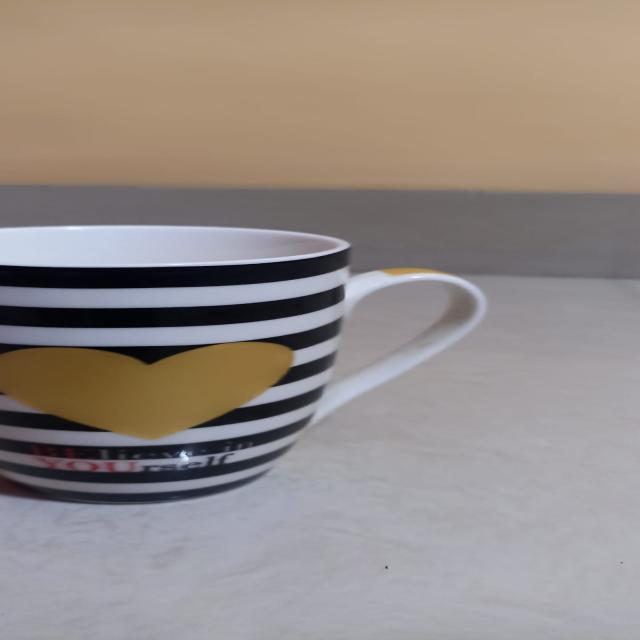cup: (0, 216, 507, 518)
